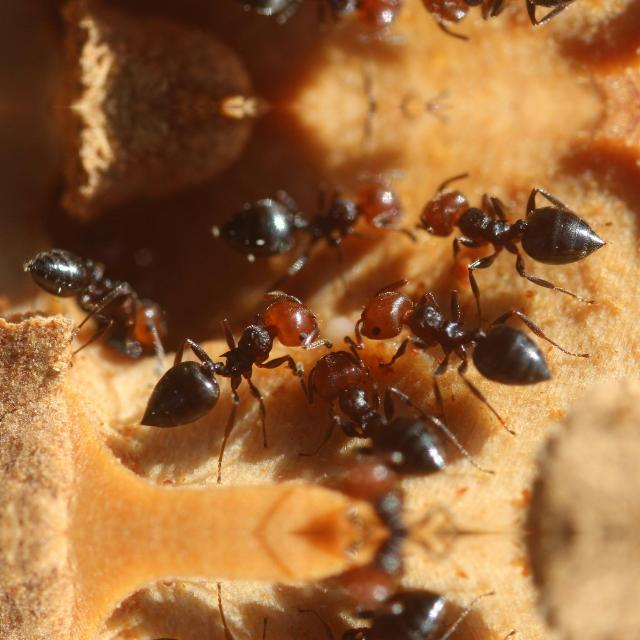Crematogaster: (136, 279, 326, 439), (398, 162, 602, 288), (294, 336, 452, 482), (360, 277, 548, 393), (210, 165, 410, 269), (24, 246, 166, 354), (398, 0, 601, 49), (210, 0, 410, 47), (294, 582, 452, 640)
